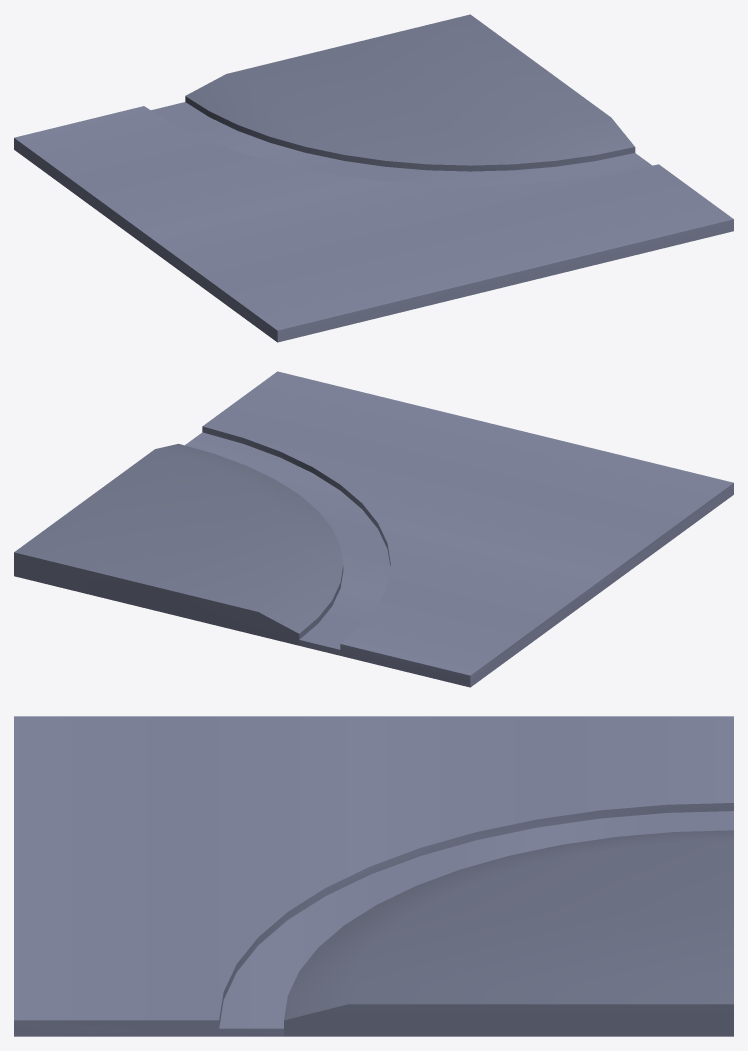
File: roadCorner.fbx
The picture shows the model from 3 angles, top to bottom: view 1: azimuth 30°, elevation 25°; view 2: azimuth 150°, elevation 25°; view 3: azimuth 270°, elevation 25°; orthographic projection. The views are drawn at different scales.
Visible parts, largest first — view 1: roadCorner; view 2: roadCorner; view 3: roadCorner.
Part boxes in pixels (x1,y1,x2,y2): roadCorner: (14,14,733,342); roadCorner: (14,371,733,687); roadCorner: (14,716,733,1036).
Bounding box in the file's own units: 1 × 1 × 0.05.
